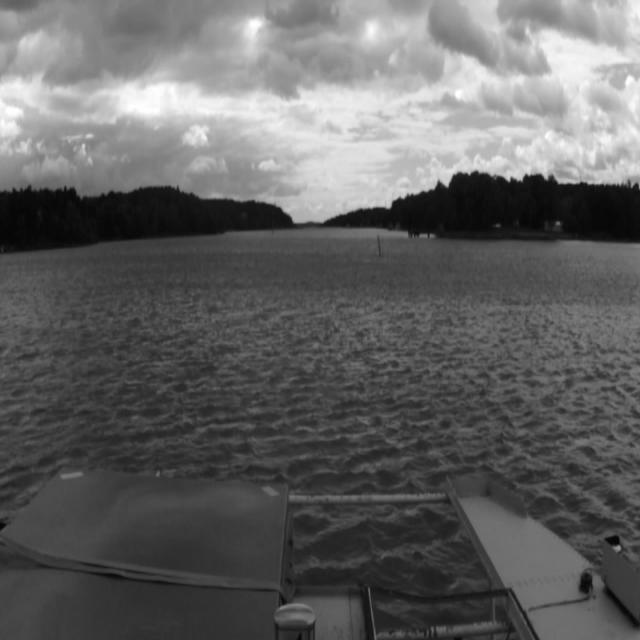buoy: (376, 234, 382, 258), (377, 231, 381, 250)
